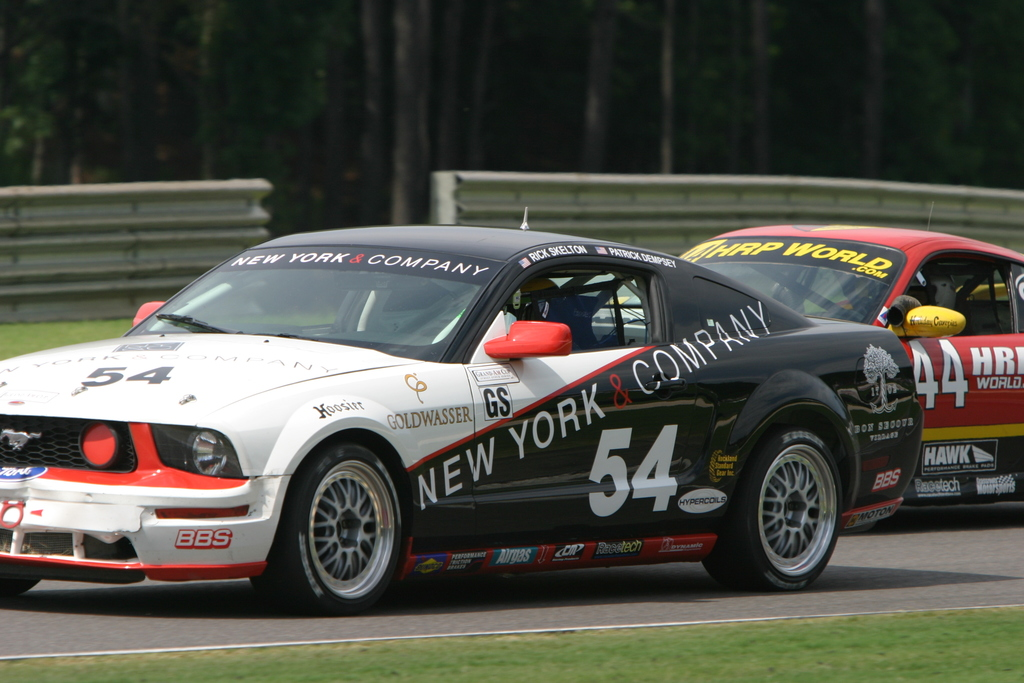Car: (0, 207, 923, 614), (591, 201, 1023, 506)
